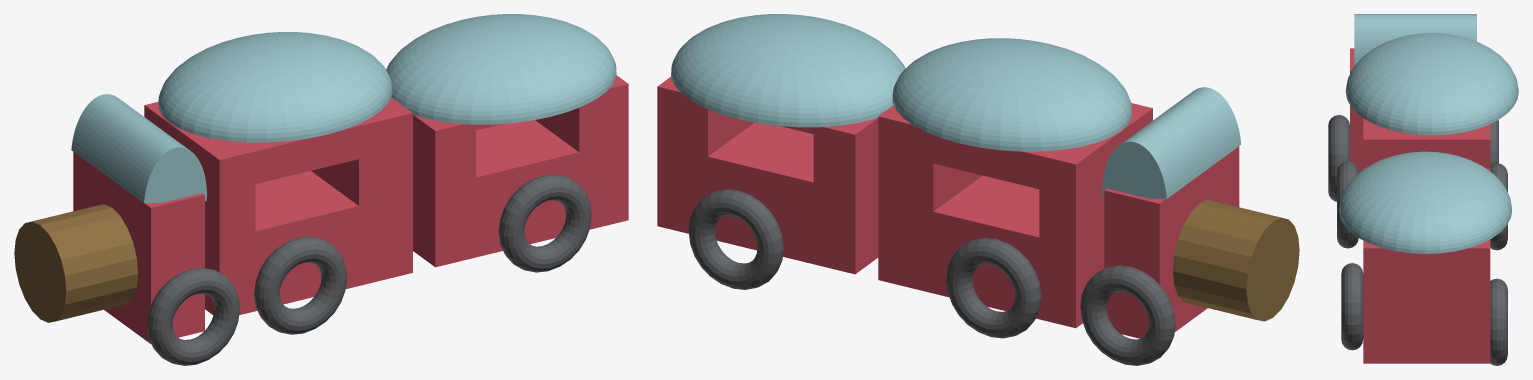
The model's file is train.glb.
The picture shows the model from 3 angles, left to right: view 1: azimuth 30°, elevation 25°; view 2: azimuth 150°, elevation 25°; view 3: azimuth 270°, elevation 25°; orthographic projection. The views are drawn at different scales.
Visible parts, largest first — view 1: Mesh_Mesh_head_geo.001_lambert2SG.001; view 2: Mesh_Mesh_head_geo.001_lambert2SG.001; view 3: Mesh_Mesh_head_geo.001_lambert2SG.001.
Part boxes in pixels (x1,y1,x2,y2): Mesh_Mesh_head_geo.001_lambert2SG.001: (14,14,628,365); Mesh_Mesh_head_geo.001_lambert2SG.001: (657,14,1299,365); Mesh_Mesh_head_geo.001_lambert2SG.001: (1328,14,1518,365).
Size of the model in its own units: 127 by 54 by 43.51.
